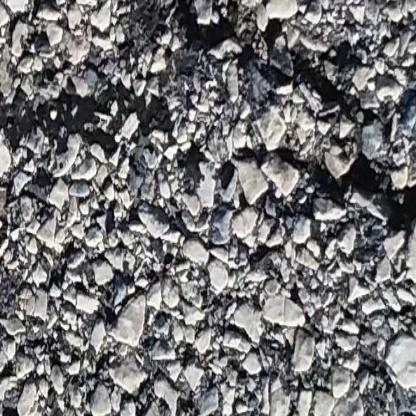Cracks: (130, 0, 416, 126), (0, 78, 209, 197), (214, 144, 416, 235)
